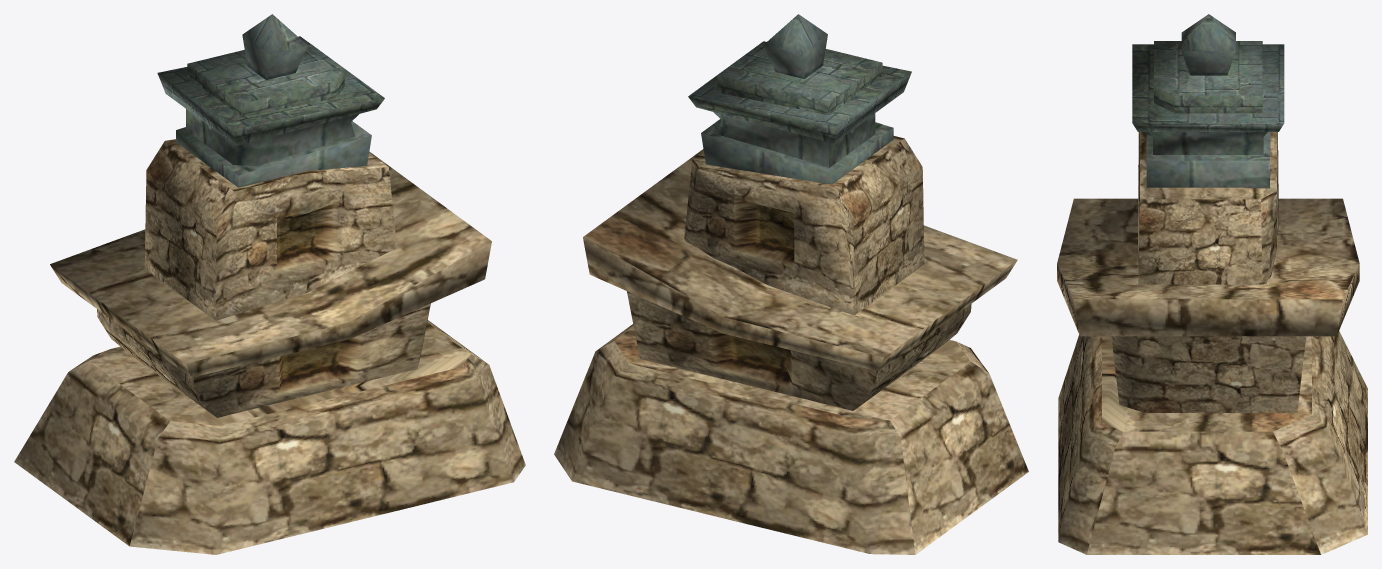
File: environment_common_shideng_003_a.FBX
3 views of the same model, side by side, from view 1: azimuth 30°, elevation 25°; view 2: azimuth 150°, elevation 25°; view 3: azimuth 270°, elevation 25° (orthographic).
Parts seen in each view (by area): view 1: environment_common_shideng_003_a; view 2: environment_common_shideng_003_a; view 3: environment_common_shideng_003_a.
Part boxes in pixels (box(x1,y1,x2,y2)): environment_common_shideng_003_a: box(14, 14, 525, 554); environment_common_shideng_003_a: box(554, 14, 1028, 554); environment_common_shideng_003_a: box(1057, 14, 1367, 554).
Bounding box in the file's own units: 119 × 136 × 85.39.
